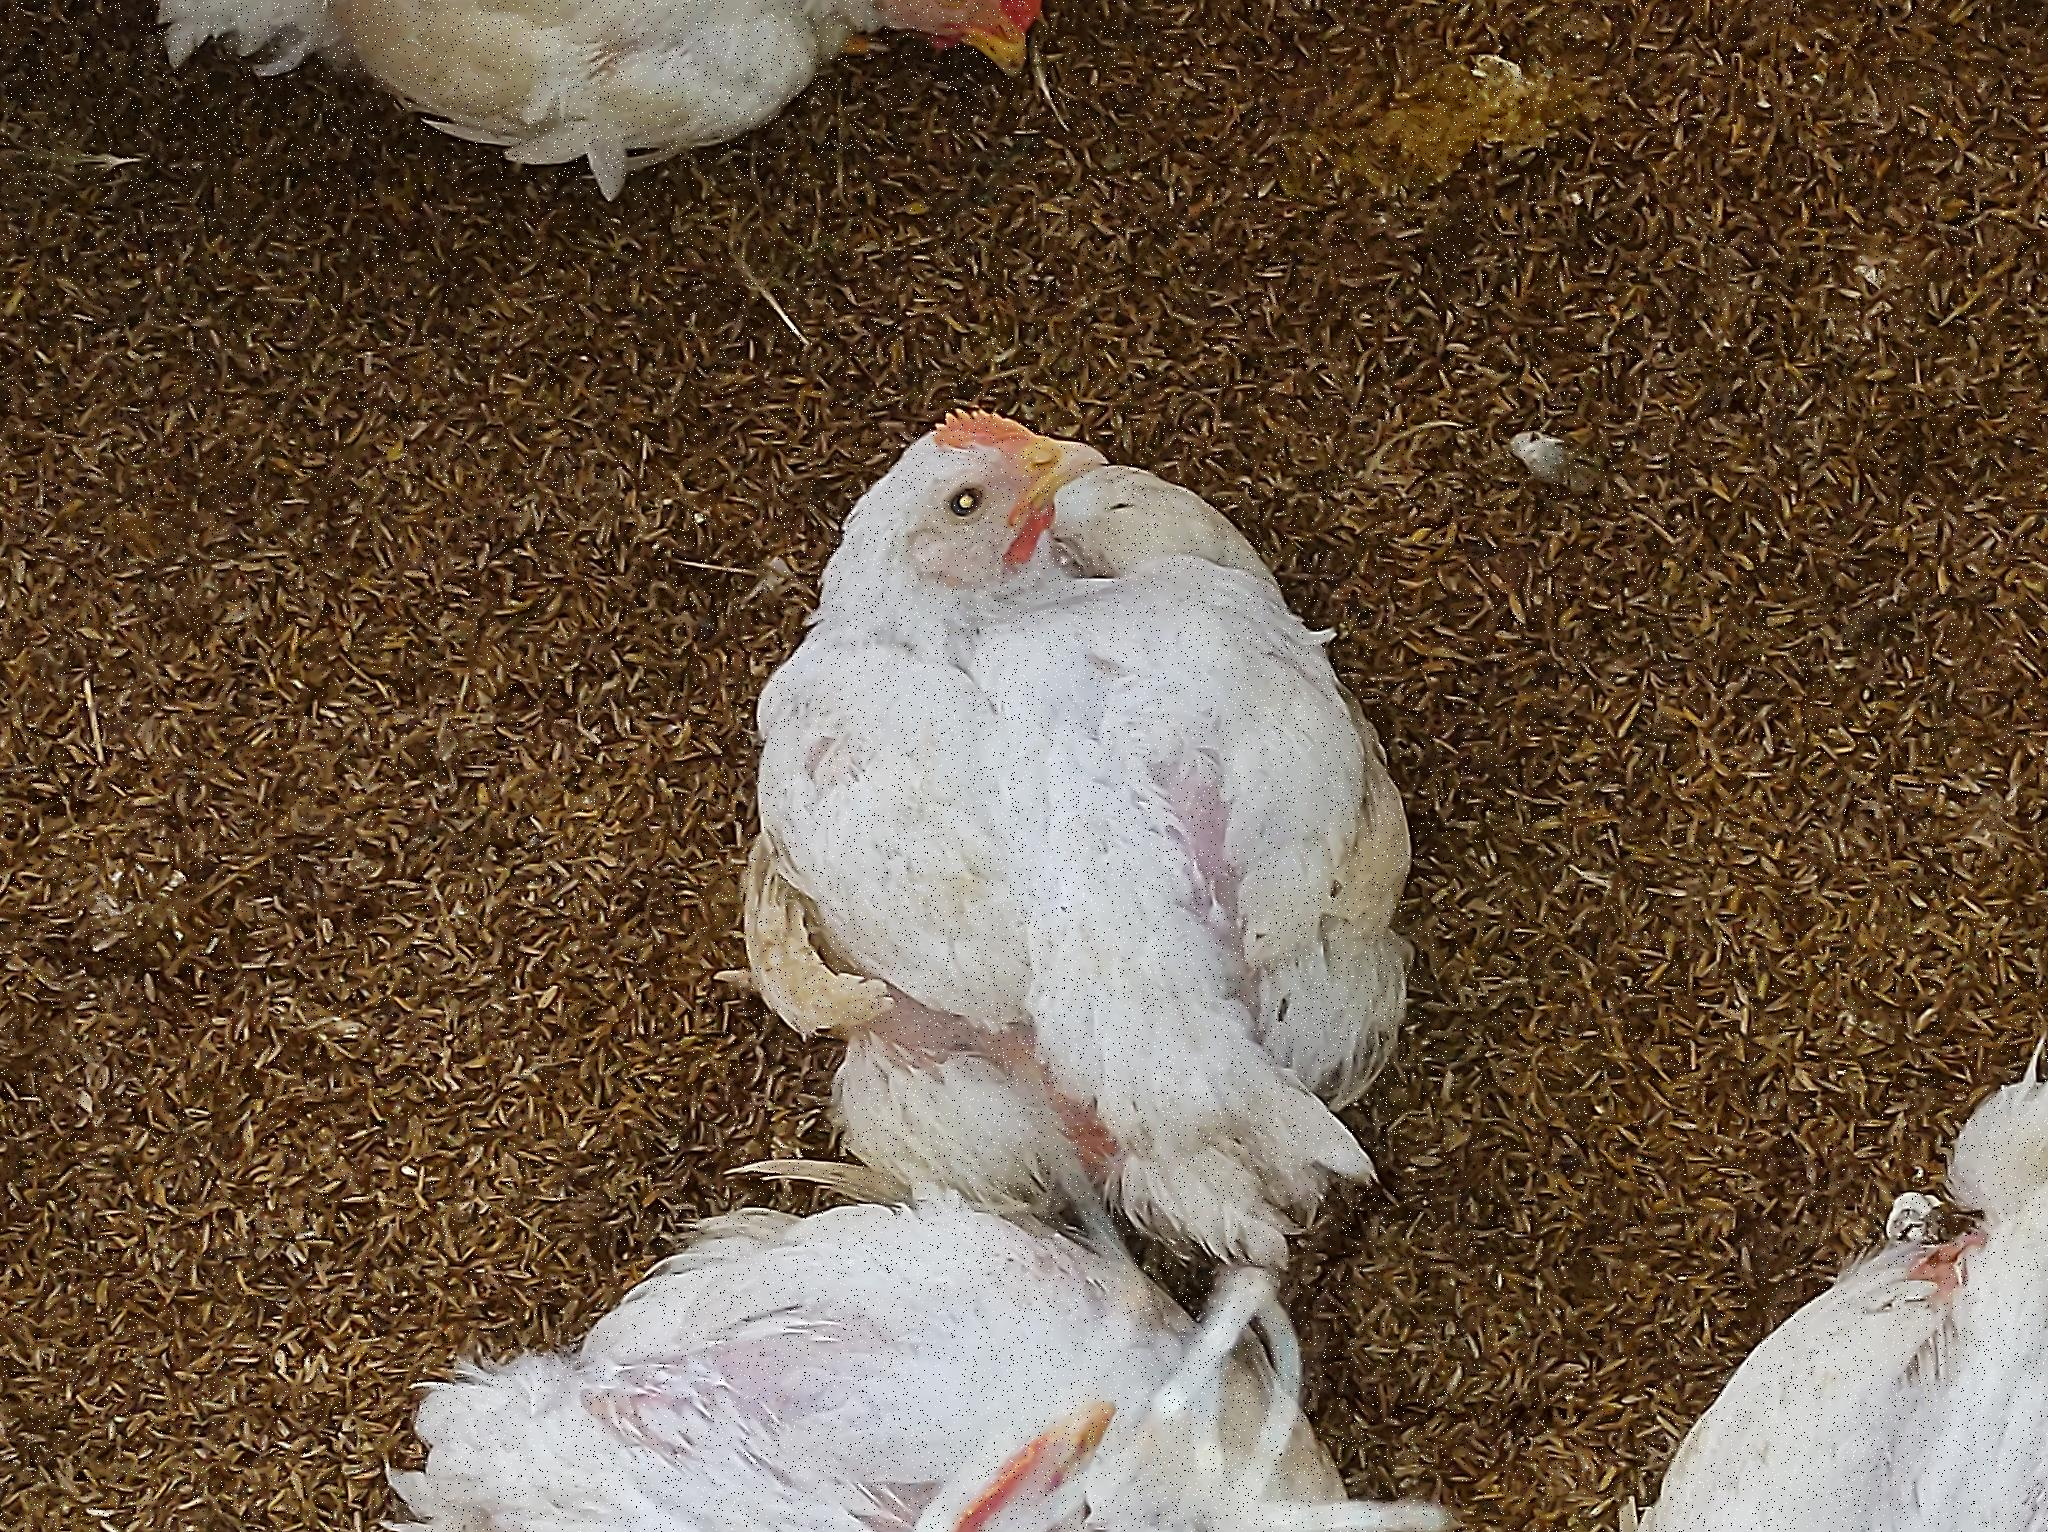Pollos: (331, 702, 1166, 1443), (2, 380, 410, 1452), (1351, 113, 1533, 1038)
